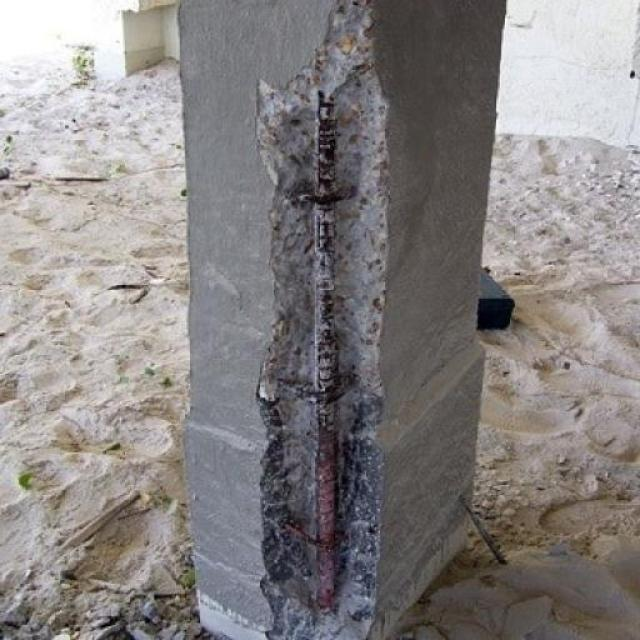D0w0: (256, 0, 386, 639)
